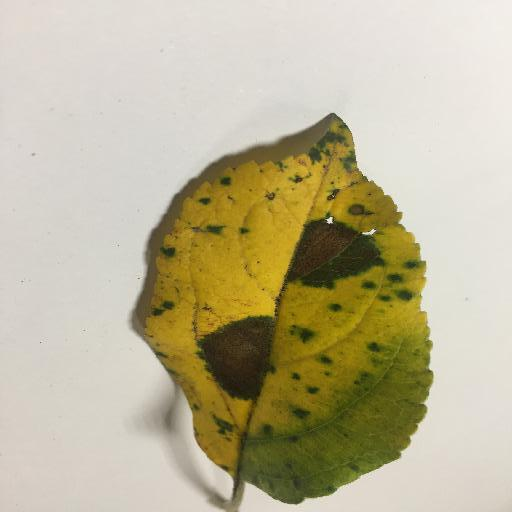Brown_Spot: (200, 327, 274, 416), (289, 239, 349, 272)
